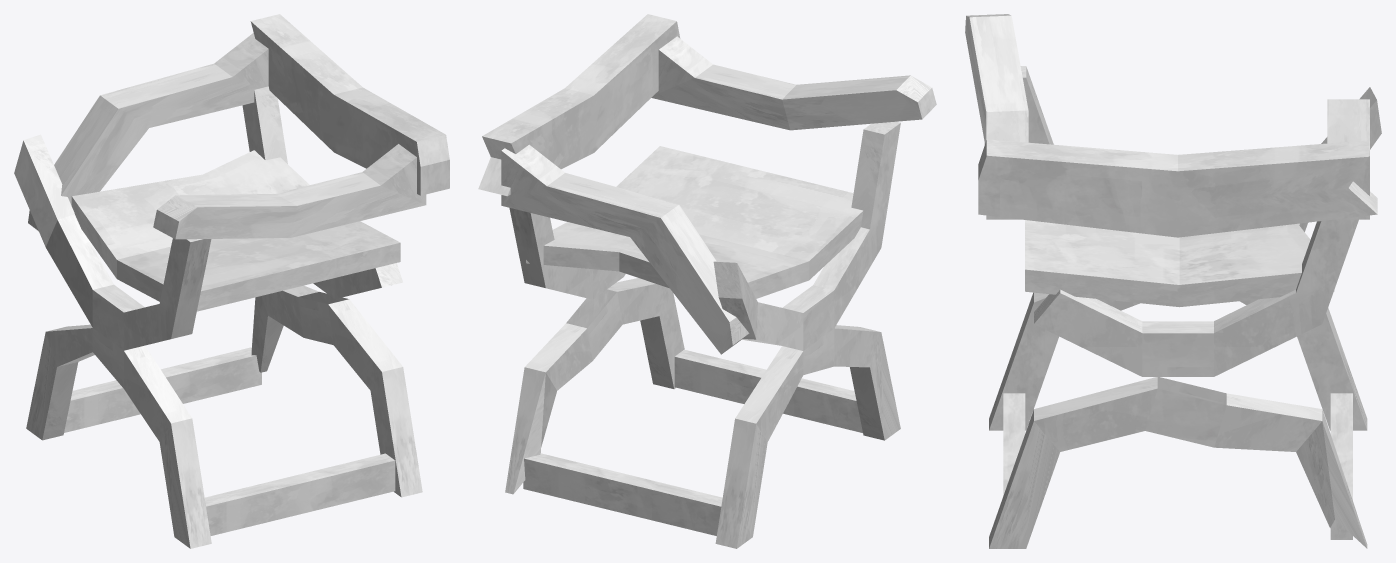
Rendered from Chair_02_break.fbx.
The picture shows the model from 3 angles, left to right: view 1: azimuth 30°, elevation 25°; view 2: azimuth 150°, elevation 25°; view 3: azimuth 270°, elevation 25°; orthographic projection. The views are drawn at different scales.
Parts seen in each view (by area): view 1: Chair_02_break_01, Chair_02_break_04, Chair_02_break_03, Chair_02_break_06, Chair_02_break_02, Chair_02_break_05; view 2: Chair_02_break_01, Chair_02_break_03, Chair_02_break_02, Chair_02_break_06, Chair_02_break_04, Chair_02_break_05; view 3: Chair_02_break_01, Chair_02_break_06, Chair_02_break_02, Chair_02_break_03, Chair_02_break_04, Chair_02_break_05.
Part boxes in pixels (x1,y1,x2,y2): Chair_02_break_01: (153,14,449,239); Chair_02_break_04: (14,134,211,548); Chair_02_break_03: (71,150,400,311); Chair_02_break_06: (204,285,422,535); Chair_02_break_02: (28,33,402,298); Chair_02_break_05: (26,324,261,440); Chair_02_break_01: (478,14,936,196); Chair_02_break_03: (526,146,863,298); Chair_02_break_02: (501,144,749,354); Chair_02_break_06: (505,278,862,494); Chair_02_break_04: (713,121,900,440); Chair_02_break_05: (523,346,803,548); Chair_02_break_01: (965,14,1377,237); Chair_02_break_06: (989,377,1367,548); Chair_02_break_02: (1034,99,1369,376); Chair_02_break_03: (1025,220,1334,307); Chair_02_break_04: (989,66,1381,430); Chair_02_break_05: (1240,299,1367,539).
Bounding box in the file's own units: 1.18 × 1.4 × 1.3.
